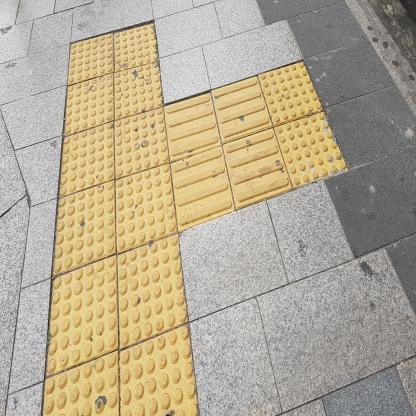podotacti: (38, 14, 356, 415)
